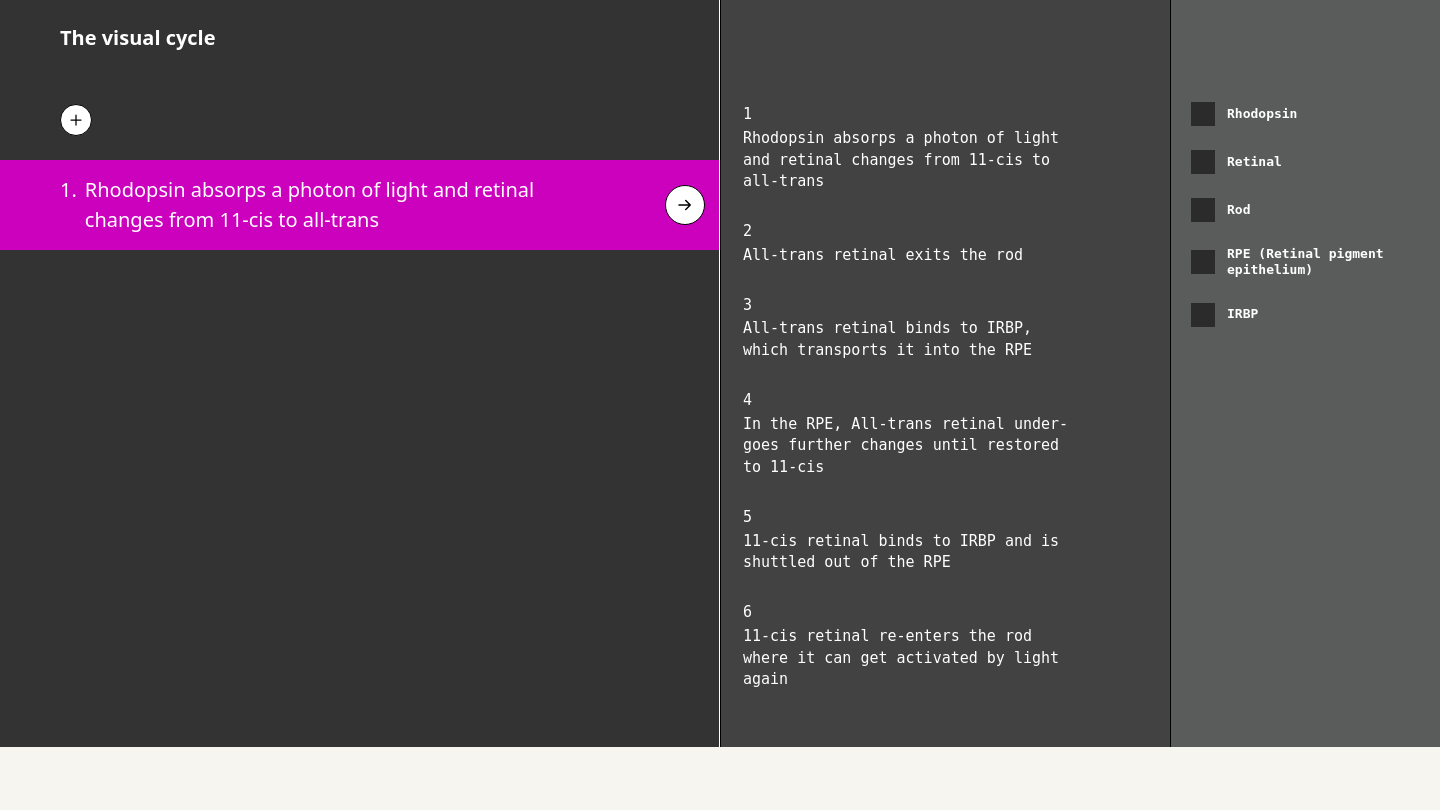
Test case: StepThrough › names the current step in the banner and moves on, wrapping at the end
Step 1. Click the button named "Next step" → (685, 205), box x1=665 y1=185 x2=705 y2=225
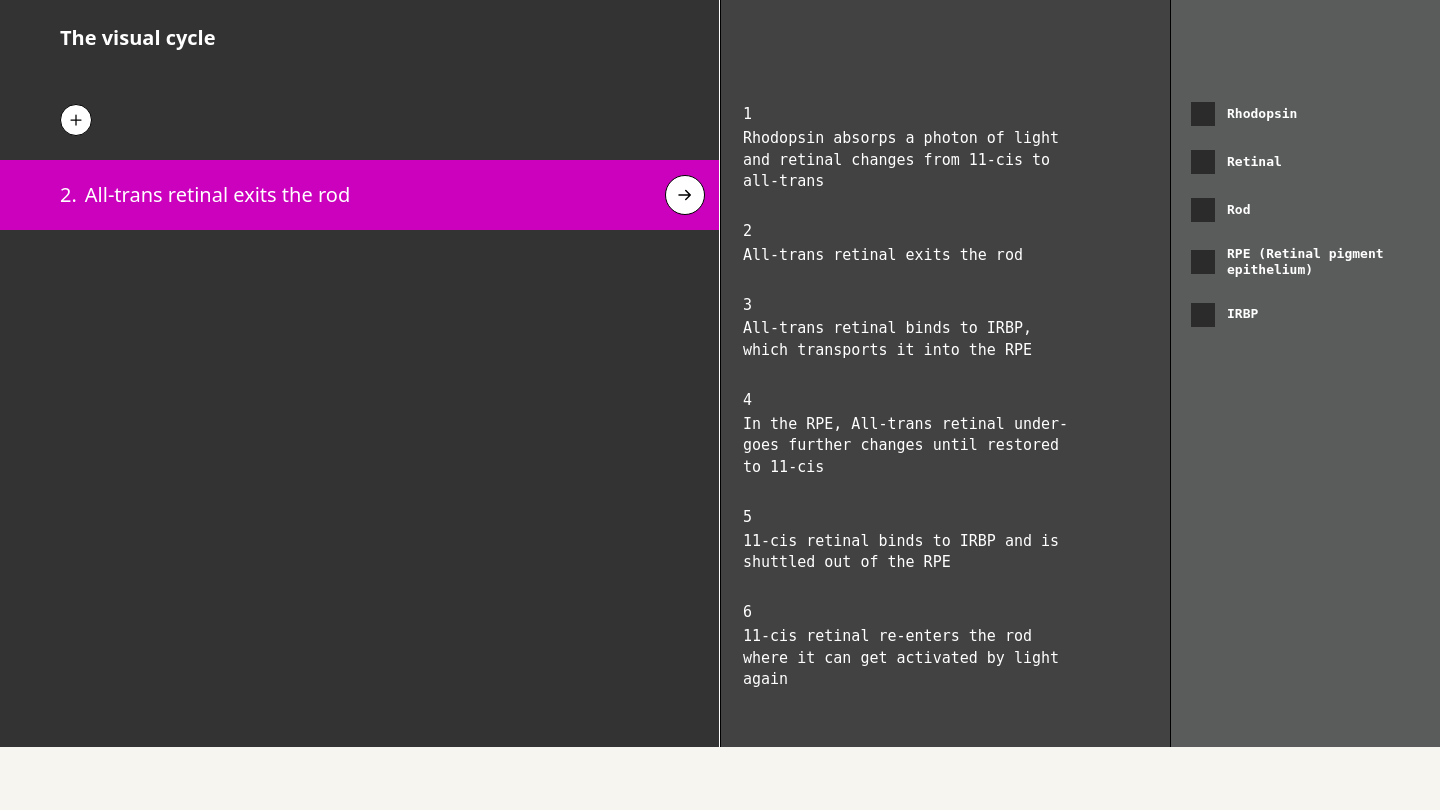
Now the element with class "st-banner-text" reads "2. All-trans retinal exits the rod", box x1=60 y1=180 x2=350 y2=210
Step 2. Click the 6th button with class "st-step" → (946, 656), box x1=721 y1=598 x2=1170 y2=715
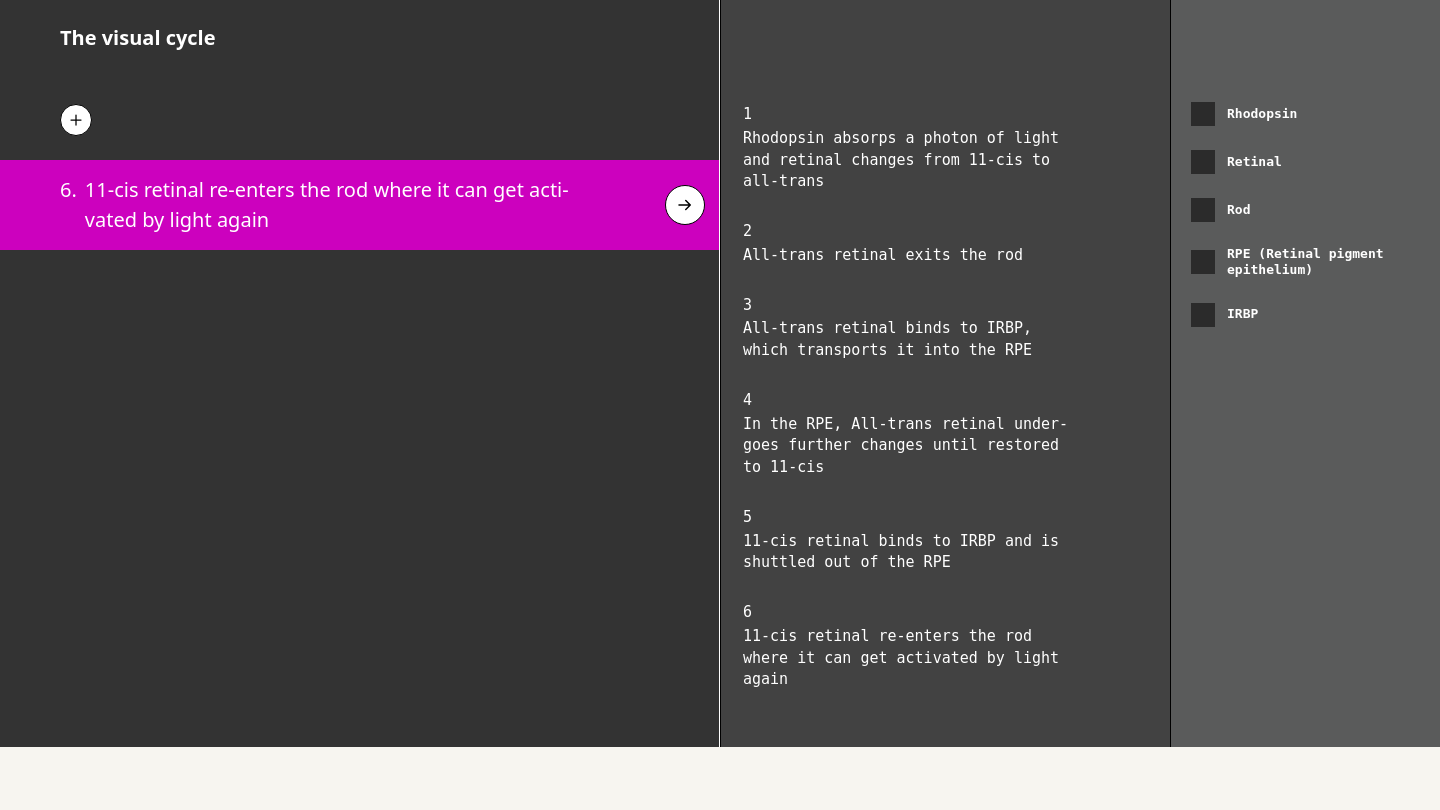
Step 3. Click the button named "Next step" → (685, 205), box x1=665 y1=185 x2=705 y2=225
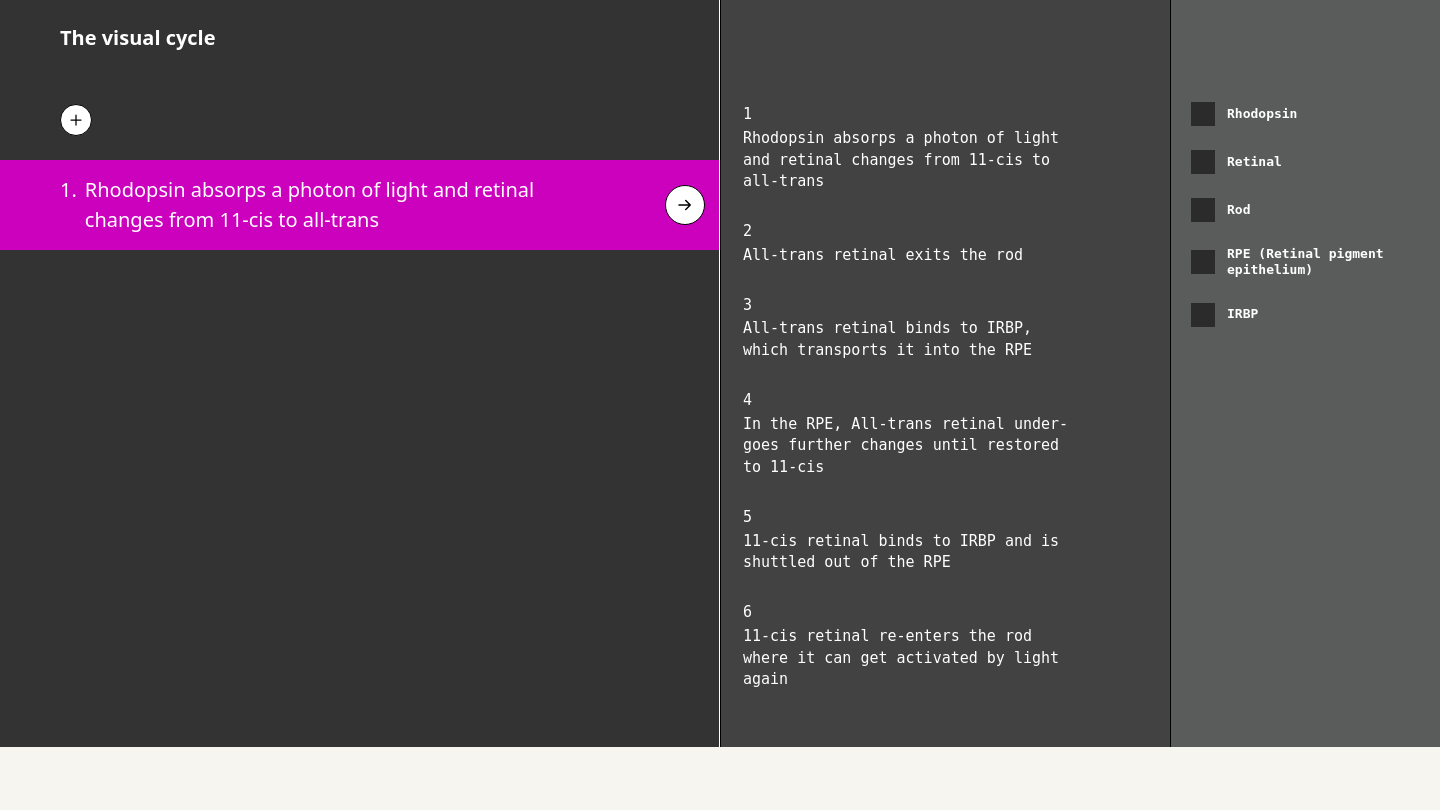
Now the element with class "st-banner-text" shows "1.", box x1=60 y1=176 x2=77 y2=203
